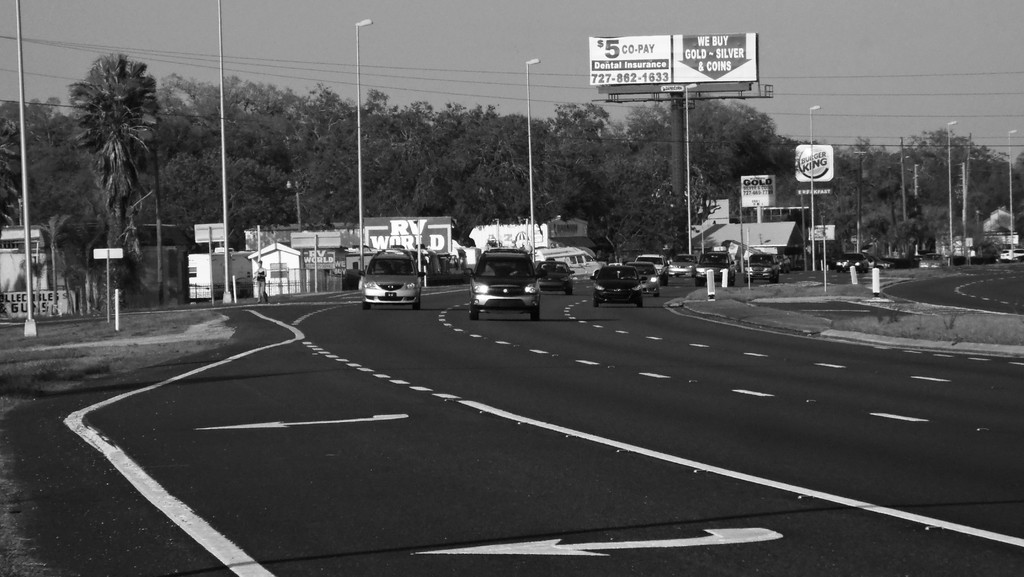Car: (583, 249, 801, 308), (468, 249, 541, 322), (356, 242, 430, 310), (535, 263, 579, 288)
